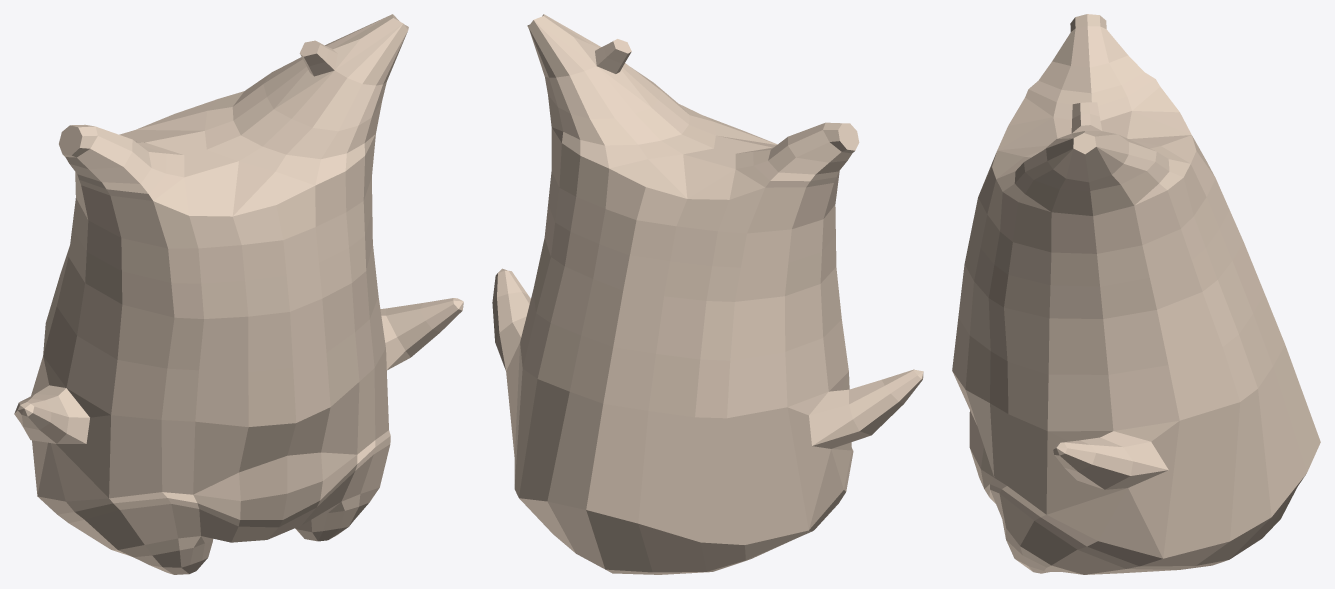
File: frame_0100.obj
3 views of the same model, side by side, from view 1: azimuth 30°, elevation 25°; view 2: azimuth 150°, elevation 25°; view 3: azimuth 270°, elevation 25° (orthographic). The views are drawn at different scales.
Parts seen in each view (by area): view 1: korok; view 2: korok; view 3: korok.
Boxes of the visible parts, bbox=[...] form: korok: bbox=[14, 14, 463, 574]; korok: bbox=[492, 14, 923, 574]; korok: bbox=[952, 14, 1320, 574].
Bounding box in the file's own units: 1.47 × 1.54 × 1.06.
